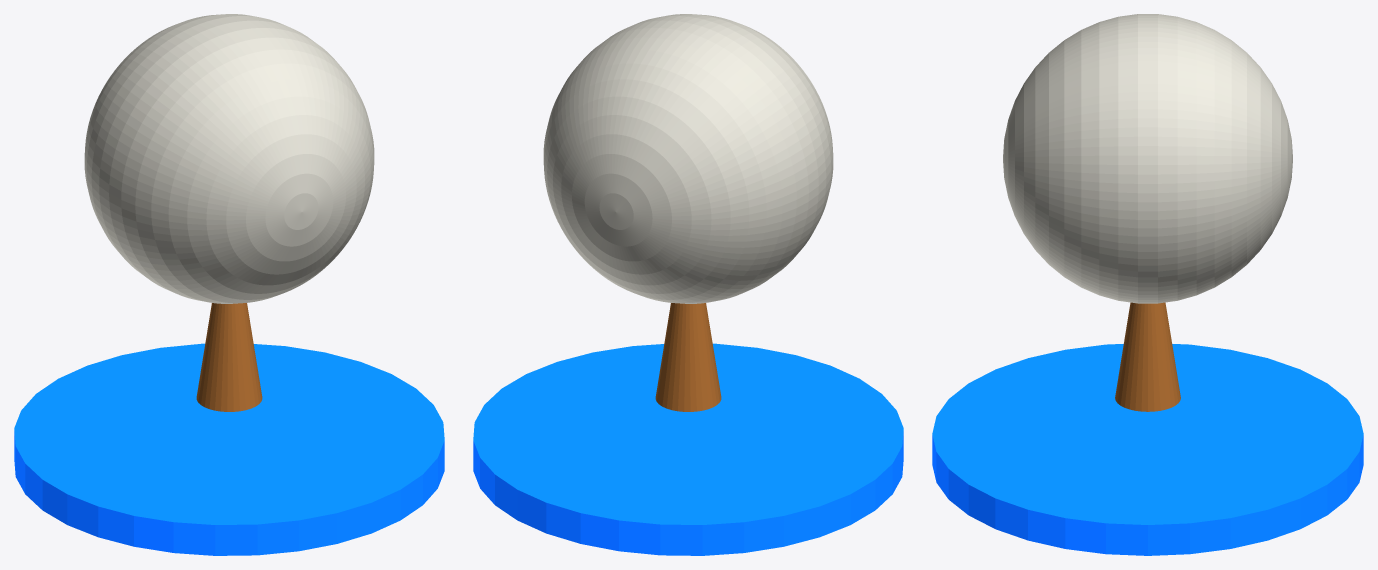
File: sports_golf_ball.dae
3 views of the same model, side by side, from view 1: azimuth 30°, elevation 25°; view 2: azimuth 150°, elevation 25°; view 3: azimuth 270°, elevation 25° (orthographic).
Parts seen in each view (by area): view 1: 04_07_Popular_Sports_Golf_Ball_ROOT_base, 04_07_Popular_Sports_Golf_Ball_part_01, 04_07_Popular_Sports_Golf_Ball_part_02; view 2: 04_07_Popular_Sports_Golf_Ball_ROOT_base, 04_07_Popular_Sports_Golf_Ball_part_01, 04_07_Popular_Sports_Golf_Ball_part_02; view 3: 04_07_Popular_Sports_Golf_Ball_ROOT_base, 04_07_Popular_Sports_Golf_Ball_part_01, 04_07_Popular_Sports_Golf_Ball_part_02.
Boxes of the visible parts, left/top/right/bottom form: 04_07_Popular_Sports_Golf_Ball_ROOT_base: left=14, top=343, right=444, bottom=555; 04_07_Popular_Sports_Golf_Ball_part_01: left=84, top=14, right=374, bottom=303; 04_07_Popular_Sports_Golf_Ball_part_02: left=196, top=303, right=262, bottom=411; 04_07_Popular_Sports_Golf_Ball_ROOT_base: left=473, top=343, right=903, bottom=555; 04_07_Popular_Sports_Golf_Ball_part_01: left=543, top=14, right=833, bottom=303; 04_07_Popular_Sports_Golf_Ball_part_02: left=655, top=303, right=721, bottom=411; 04_07_Popular_Sports_Golf_Ball_ROOT_base: left=932, top=344, right=1363, bottom=555; 04_07_Popular_Sports_Golf_Ball_part_01: left=1003, top=14, right=1292, bottom=303; 04_07_Popular_Sports_Golf_Ball_part_02: left=1115, top=302, right=1180, bottom=411.
Bounding box in the file's own units: 0.76 × 0.85 × 0.76.
